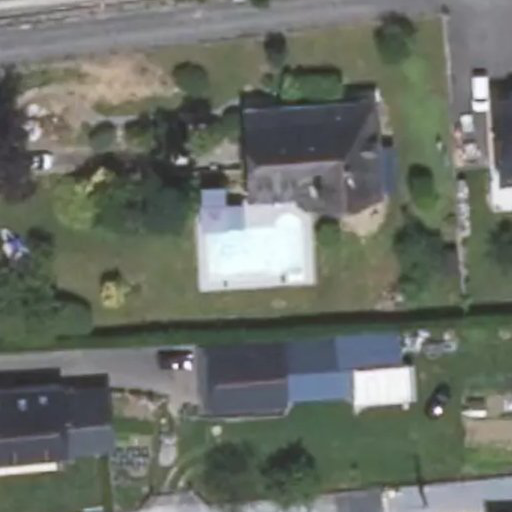pool: (212, 219, 298, 264)
